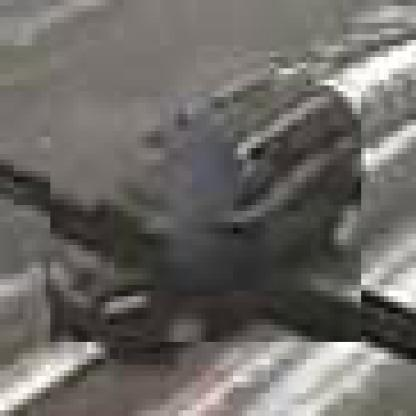car: (47, 87, 362, 349)
